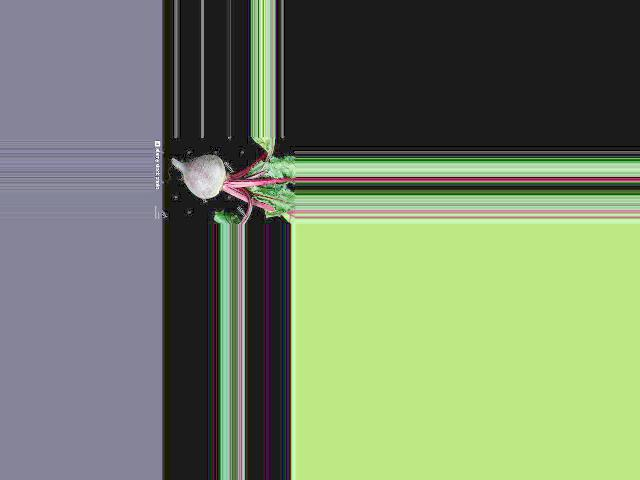beet: (171, 137, 295, 224)
